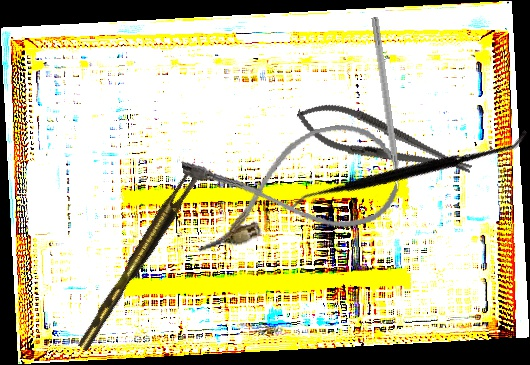Cannula: (180, 116, 403, 256)
Chopper: (361, 16, 404, 201)
Needle Holder: (290, 92, 478, 192)
Spatula Surgical: (287, 46, 529, 293)
Tissue Forceps: (68, 165, 208, 352)
